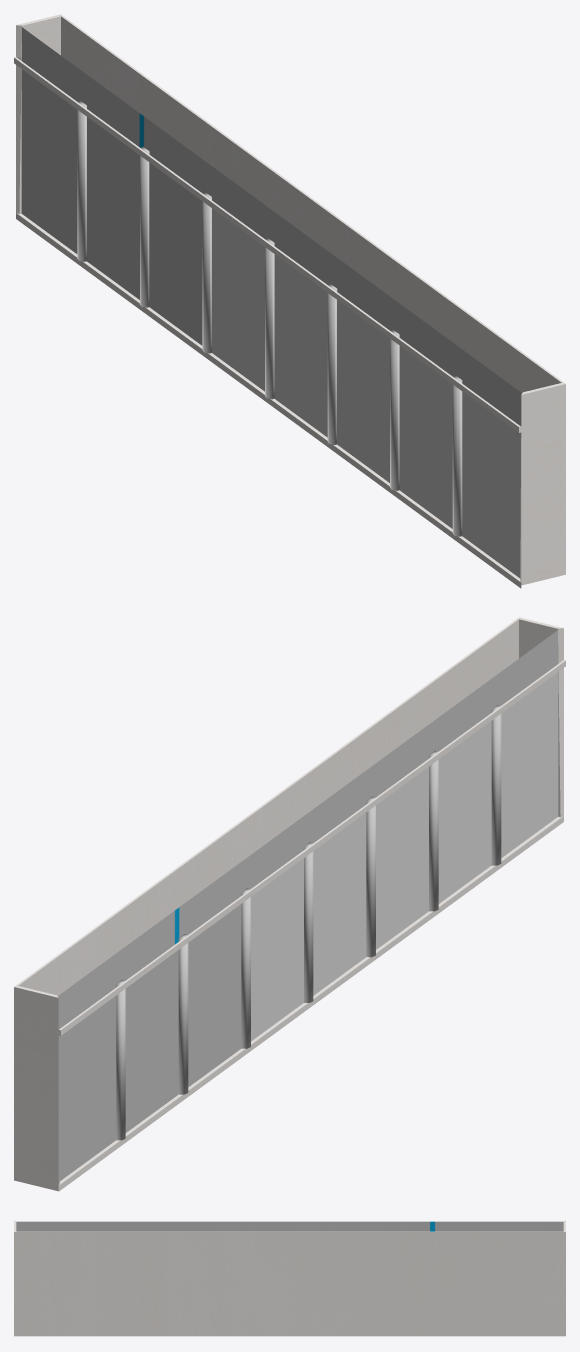
File: freeze coolers.fbx
The picture shows the model from 3 angles, top to bottom: view 1: azimuth 30°, elevation 25°; view 2: azimuth 150°, elevation 25°; view 3: azimuth 270°, elevation 25°; orthographic projection. The views are drawn at different scales.
Parts seen in each view (by area): view 1: Cube.088, Cube.019, Cylinder.024, Plane.025, Plane.002, Plane.006, Plane.022, Plane.024, Plane.005, Plane.007, Plane.023; view 2: Cube.088, Cube.019, Cylinder.024, Plane.002, Plane.025, Plane.005, Plane.006, Plane.022, Plane.024, Plane.007, Plane.023; view 3: Cube.088, Cube.019.
Part boxes in pixels (<box>): Cube.088: <box>14,14,565,588</box>; Cube.019: <box>22,27,521,426</box>; Cylinder.024: <box>77,101,462,536</box>; Plane.025: <box>462,391,521,578</box>; Plane.002: <box>21,69,77,253</box>; Plane.006: <box>149,162,202,345</box>; Plane.022: <box>274,254,327,437</box>; Plane.024: <box>399,346,452,528</box>; Plane.005: <box>87,117,139,299</box>; Plane.007: <box>212,208,264,391</box>; Plane.023: <box>337,300,389,482</box>; Cube.088: <box>14,617,565,1191</box>; Cube.019: <box>58,630,557,1029</box>; Cylinder.024: <box>116,705,501,1140</box>; Plane.002: <box>58,996,116,1181</box>; Plane.025: <box>501,672,558,857</box>; Plane.005: <box>125,950,178,1132</box>; Plane.006: <box>188,904,241,1086</box>; Plane.022: <box>313,813,366,995</box>; Plane.024: <box>438,721,491,903</box>; Plane.007: <box>251,858,303,1041</box>; Plane.023: <box>376,767,428,949</box>; Cube.088: <box>14,1220,565,1336</box>; Cube.019: <box>16,1221,563,1231</box>.
Size of the model in its own units: 87.14 by 344 by 1627.
